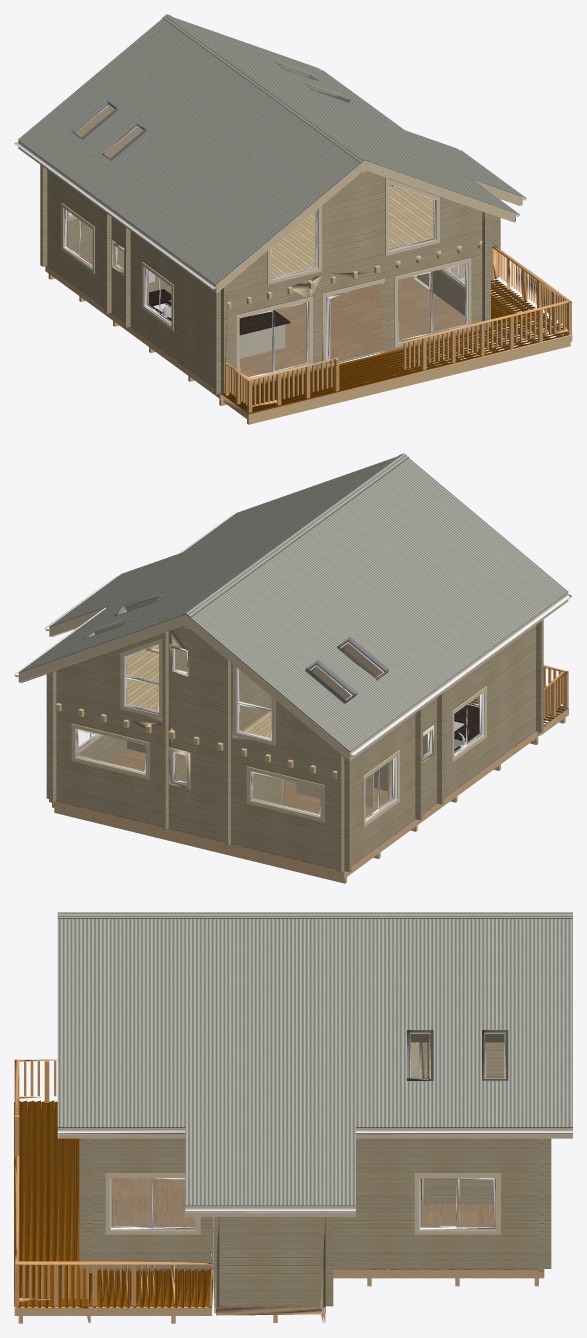
File: scandi-hawk-y0.far.glb
The picture shows the model from 3 angles, top to bottom: view 1: azimuth 30°, elevation 25°; view 2: azimuth 150°, elevation 25°; view 3: azimuth 270°, elevation 25°; orthographic projection. The views are drawn at different scales.
Parts seen in each view (by area): view 1: Object_20, Object_13, Object_9, Object_21, Object_3, Object_22, Object_39, Object_43, Object_34, Object_29, Object_23, Object_32 (+2 smaller); view 2: Object_20, Object_13, Object_9, Object_22, Object_34, Object_43, Object_29, Object_3, Object_11, Object_24, Object_21, Object_23 (+1 smaller); view 3: Object_20, Object_13, Object_39, Object_9, Object_22, Object_21, Object_3, Object_29, Object_34, Object_11, Object_24.
Part boxes in pixels (x1=…): Object_20: x1=18, y1=14, x2=522, y2=284; Object_13: x1=40, y1=165, x2=500, y2=394; Object_9: x1=18, y1=140, x2=522, y2=382; Object_21: x1=225, y1=246, x2=571, y2=412; Object_3: x1=83, y1=254, x2=464, y2=376; Object_22: x1=45, y1=170, x2=572, y2=424; Object_39: x1=220, y1=280, x2=572, y2=414; Object_43: x1=271, y1=186, x2=433, y2=277; Object_34: x1=64, y1=183, x2=467, y2=377; Object_29: x1=14, y1=69, x2=526, y2=289; Object_23: x1=148, y1=289, x2=290, y2=335; Object_32: x1=159, y1=303, x2=285, y2=358; Object_20: x1=18, y1=453, x2=568, y2=751; Object_13: x1=46, y1=620, x2=543, y2=873; Object_9: x1=18, y1=592, x2=568, y2=828; Object_22: x1=22, y1=625, x2=568, y2=883; Object_34: x1=75, y1=644, x2=484, y2=821; Object_43: x1=127, y1=644, x2=271, y2=737; Object_29: x1=14, y1=514, x2=572, y2=756; Object_3: x1=108, y1=748, x2=387, y2=817; Object_11: x1=20, y1=598, x2=383, y2=760; Object_24: x1=83, y1=595, x2=388, y2=703; Object_21: x1=543, y1=665, x2=568, y2=717; Object_23: x1=454, y1=704, x2=479, y2=753; Object_20: x1=57, y1=912, x2=572, y2=1205; Object_13: x1=79, y1=1042, x2=551, y2=1309; Object_39: x1=14, y1=1100, x2=211, y2=1308; Object_9: x1=57, y1=1042, x2=572, y2=1280; Object_22: x1=14, y1=1034, x2=544, y2=1323; Object_21: x1=14, y1=1059, x2=213, y2=1306; Object_3: x1=111, y1=1178, x2=494, y2=1226; Object_29: x1=57, y1=1130, x2=572, y2=1212; Object_34: x1=110, y1=1178, x2=495, y2=1229; Object_11: x1=97, y1=1032, x2=505, y2=1313; Object_24: x1=407, y1=1030, x2=508, y2=1080.
Bounding box in the file's own units: 11.42 × 6.68 × 11.66.
26 materials, 14 textured.
